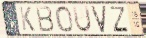B: (34, 5, 56, 33)
K: (18, 5, 36, 33)
O: (54, 5, 75, 34)
U: (71, 5, 93, 34)
V: (90, 5, 108, 34)
Z: (109, 6, 130, 33)
